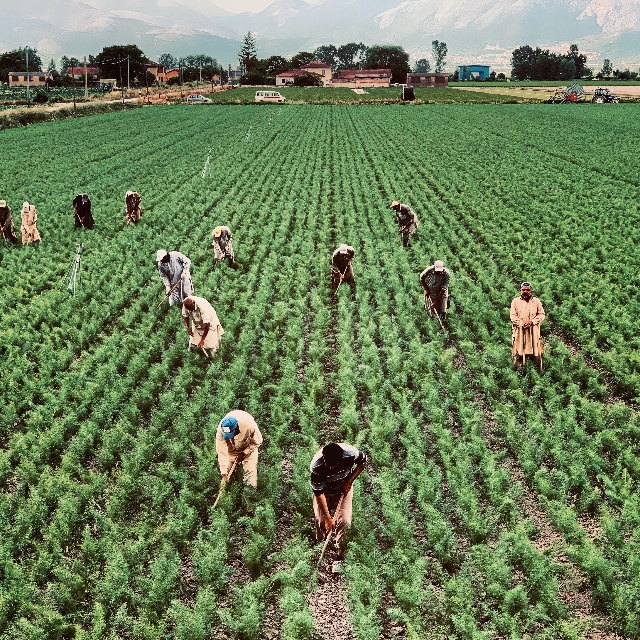Guantes: (180, 272, 187, 280), (165, 288, 171, 296), (224, 245, 229, 252), (220, 252, 224, 259)
Sin_guantes: (340, 481, 352, 497), (324, 517, 335, 534), (198, 338, 205, 350), (236, 453, 243, 464), (431, 300, 439, 309), (187, 328, 194, 337), (522, 320, 532, 326), (424, 288, 430, 298), (222, 474, 229, 481), (523, 324, 530, 329), (346, 261, 350, 269), (339, 274, 344, 280)
